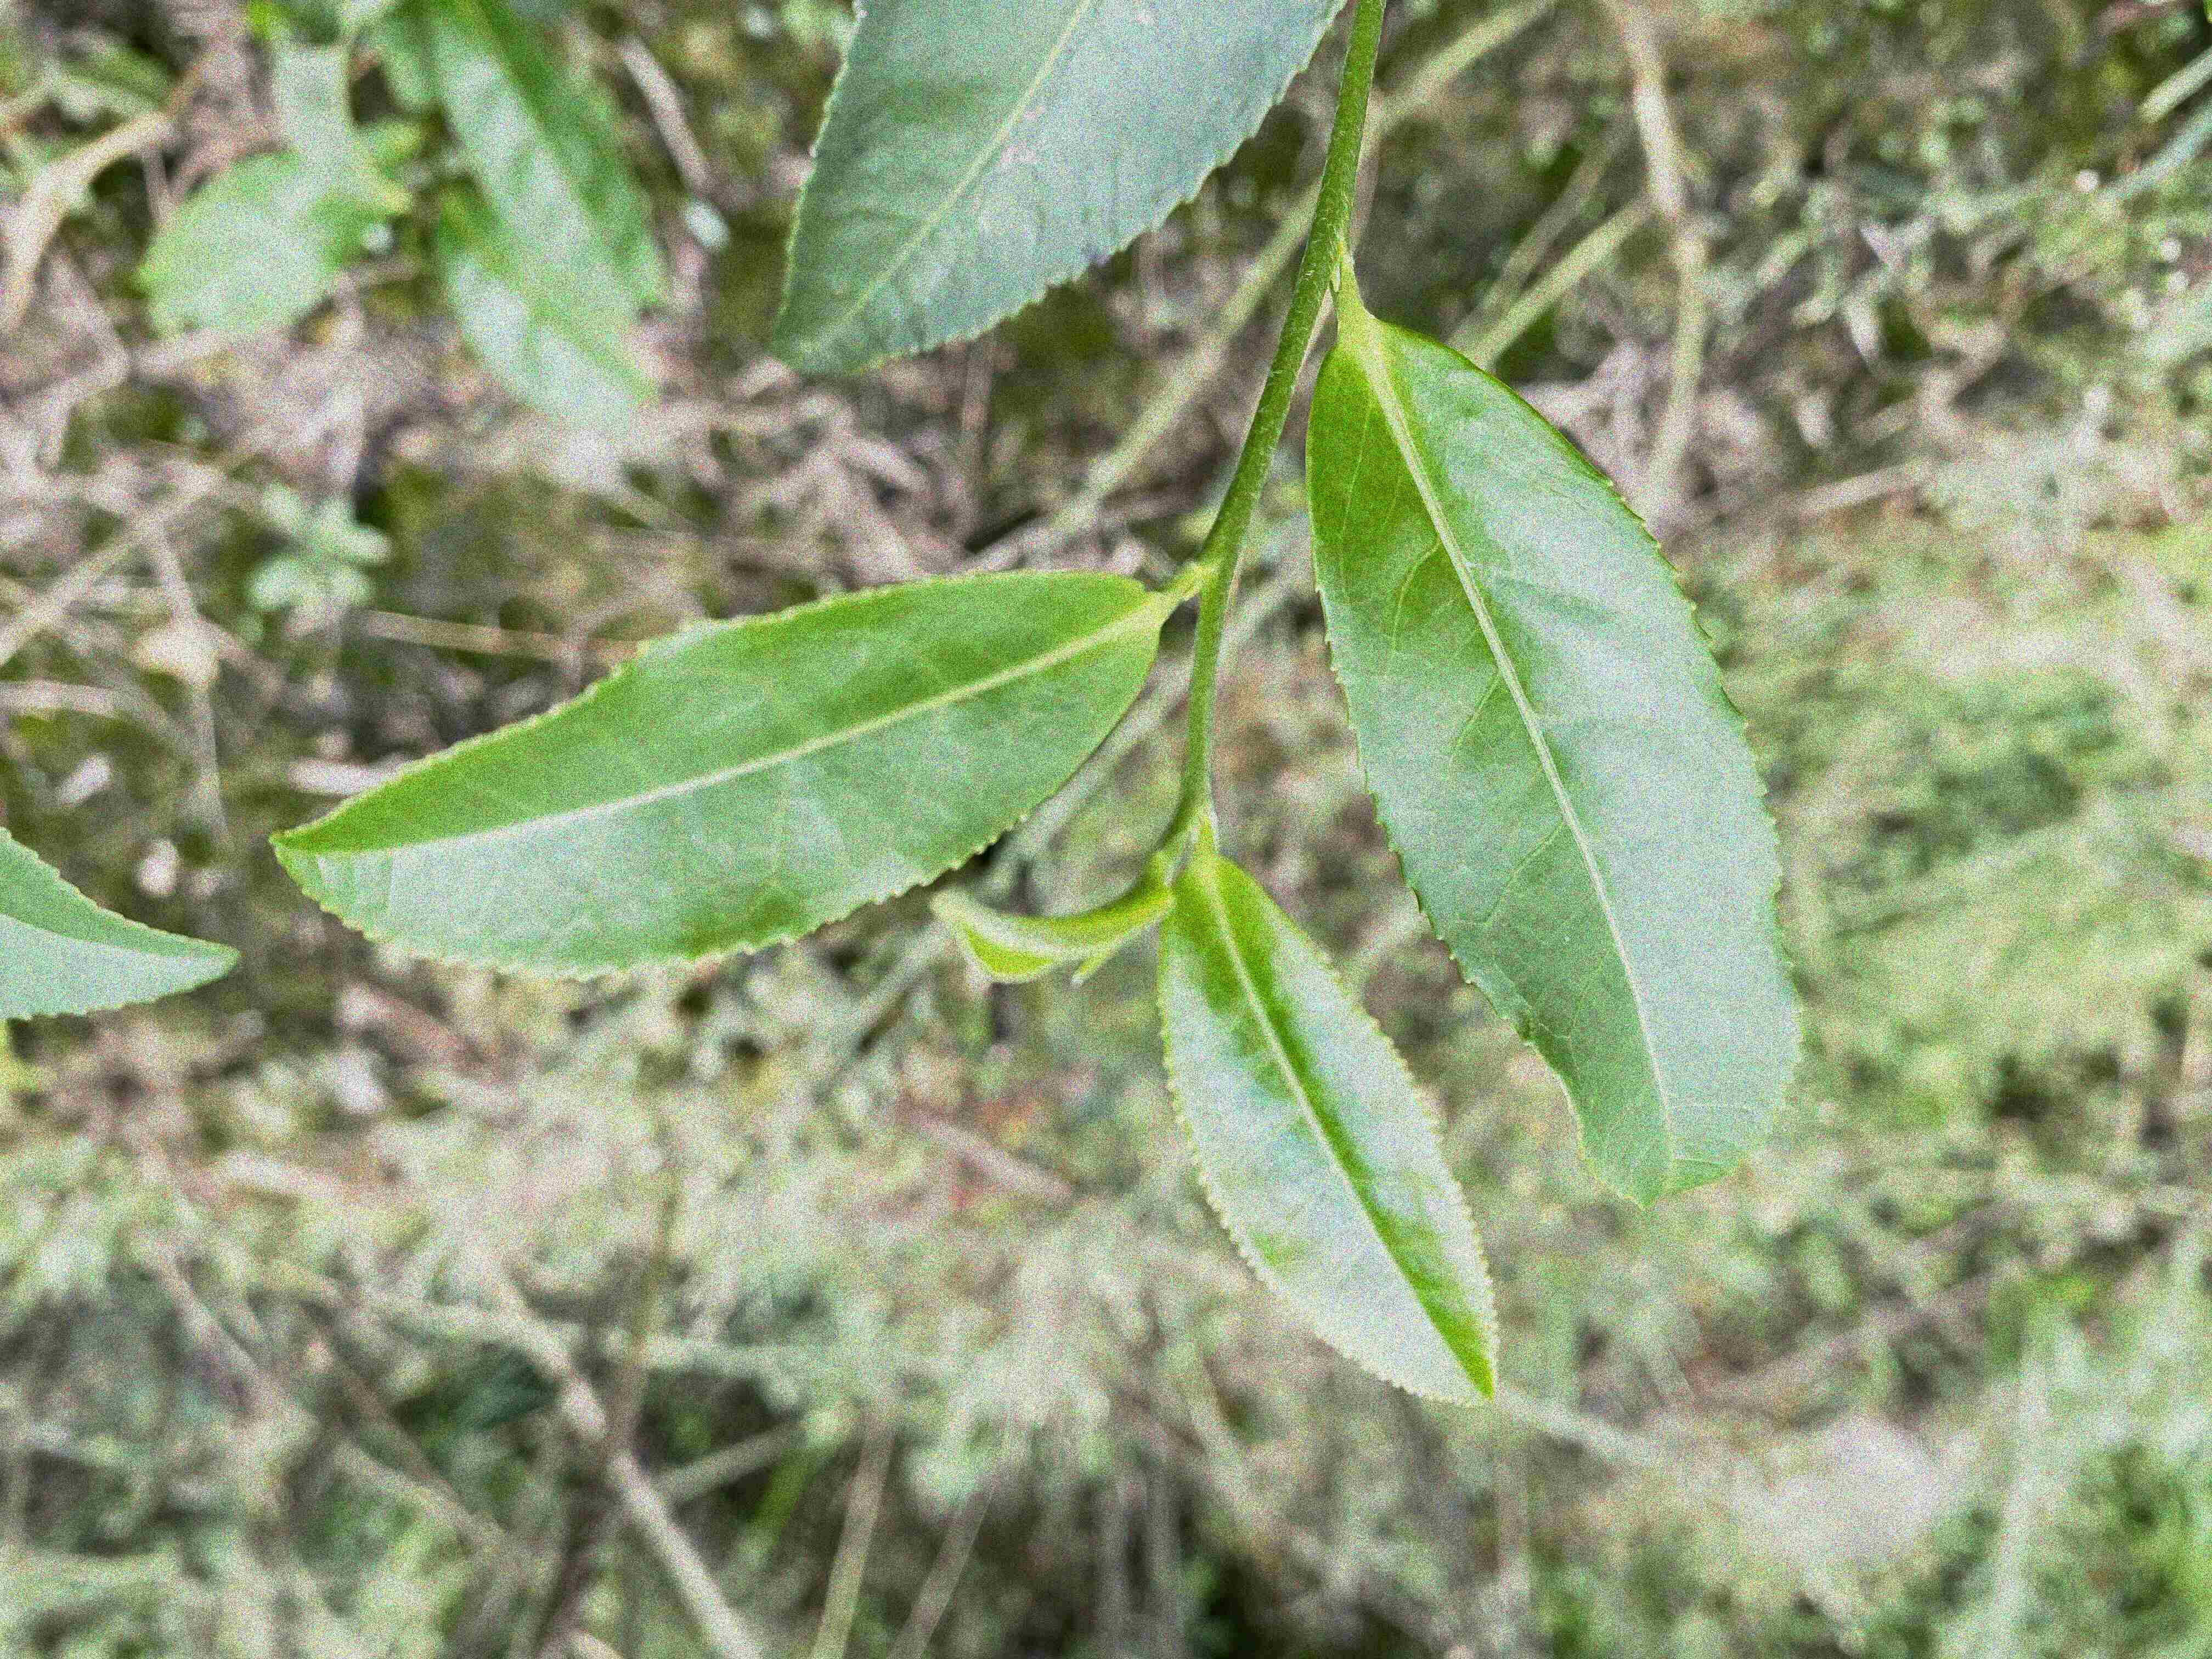healthy: (1301, 324, 1808, 1209), (265, 568, 1163, 986), (1155, 843, 1501, 1408)
tanju_low: (763, 3, 1346, 382)
